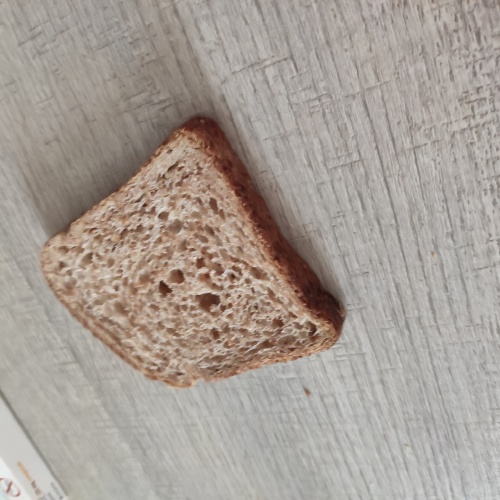pane: (35, 109, 345, 396)
